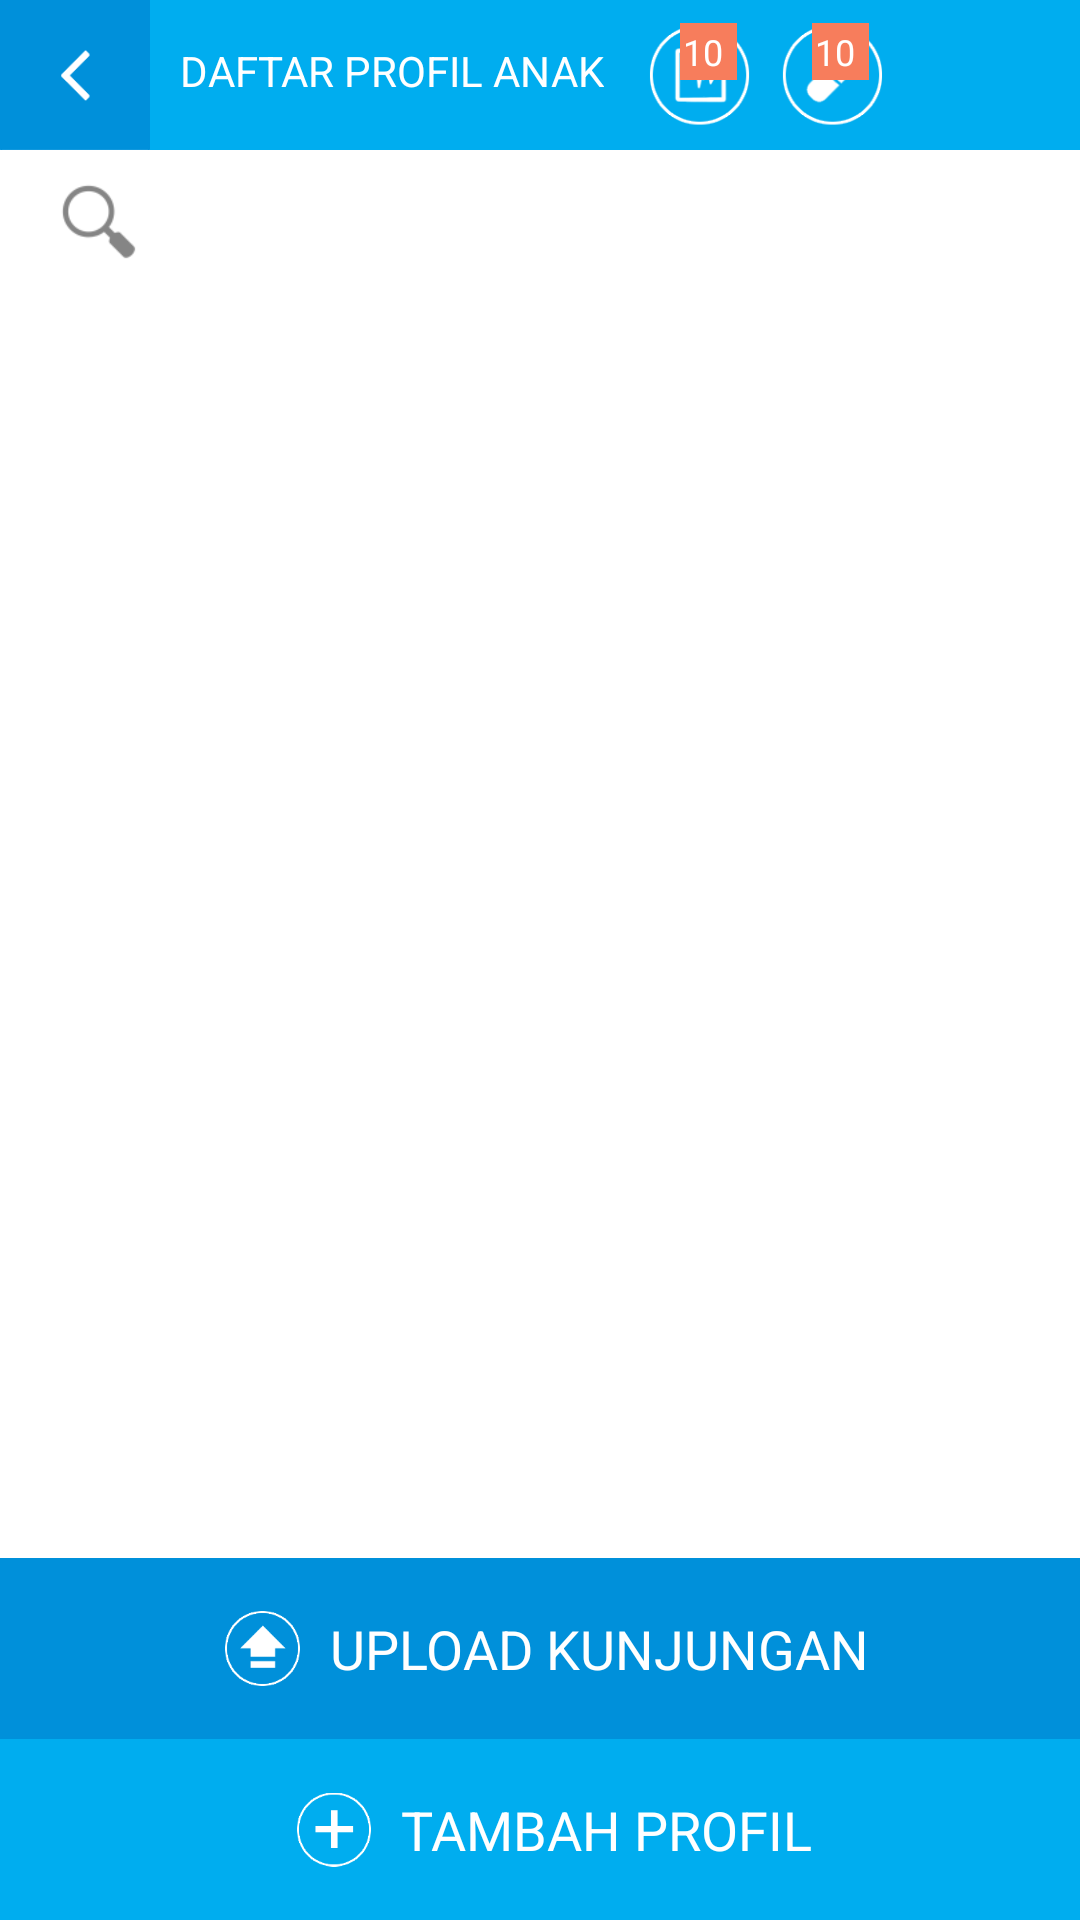

Named icons in this screenshot (1080px×1920px) and their centers, [x,y]:
back: [75,75]
